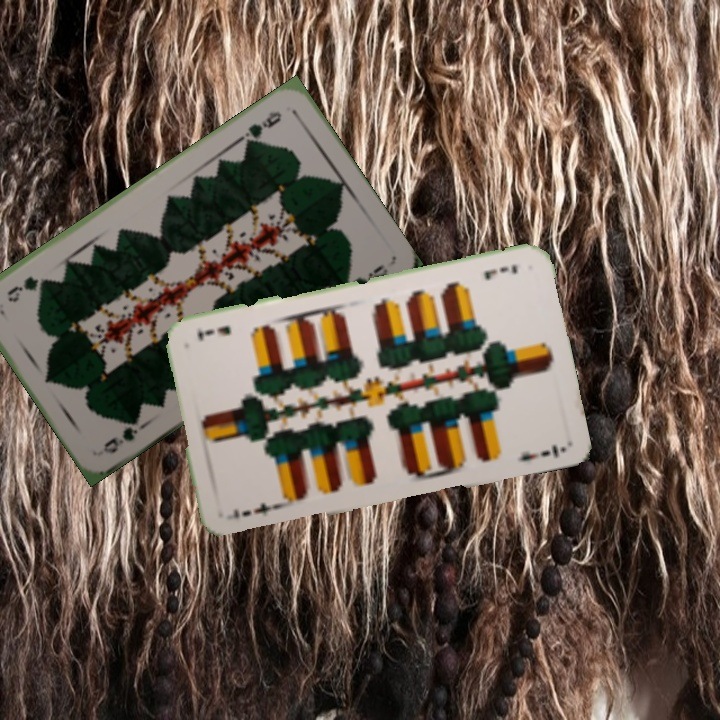E7: (228, 498, 281, 521), (480, 261, 521, 283)
G9: (236, 107, 285, 149), (99, 412, 143, 456)
